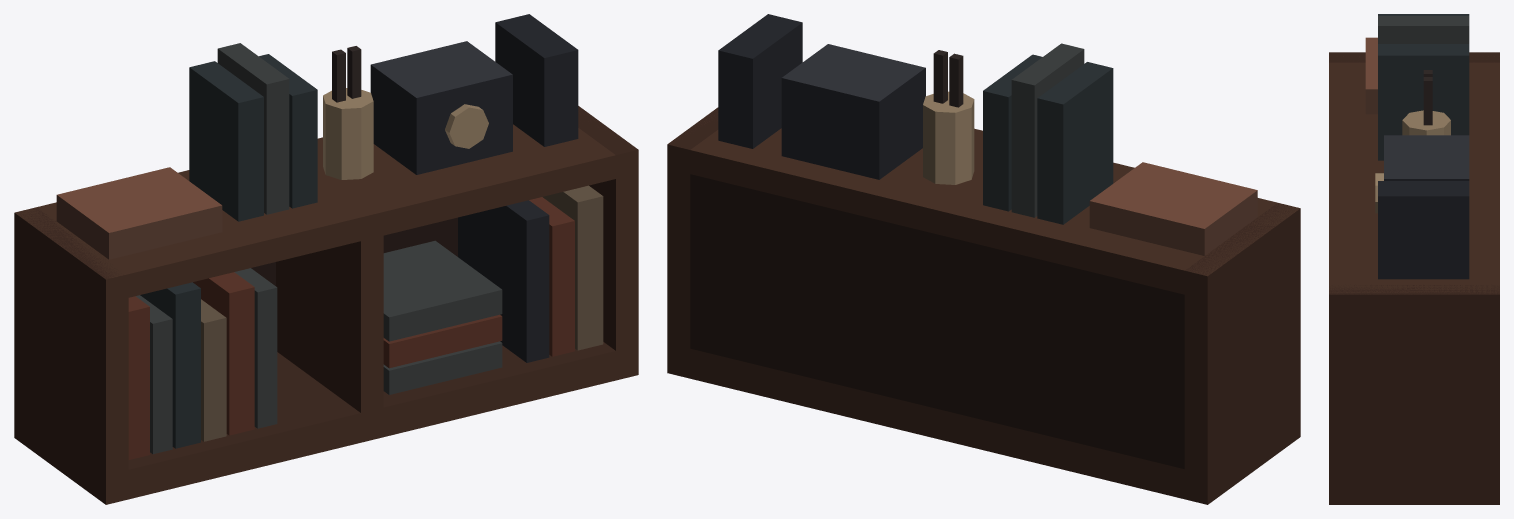
File: studio_shelf_basic.fbx
3 renders of one model, left to right at view 1: azimuth 30°, elevation 25°; view 2: azimuth 150°, elevation 25°; view 3: azimuth 270°, elevation 25°, orthographic. The views are drawn at different scales.
Visible parts, largest first — view 1: studio_shelf_basic; view 2: studio_shelf_basic; view 3: studio_shelf_basic.
Part boxes in pixels (bbox=[...]): studio_shelf_basic: bbox=[14, 14, 638, 504]; studio_shelf_basic: bbox=[667, 14, 1300, 504]; studio_shelf_basic: bbox=[1329, 14, 1499, 504].
Bounding box in the file's own units: 0.94 × 0.6 × 0.28.
